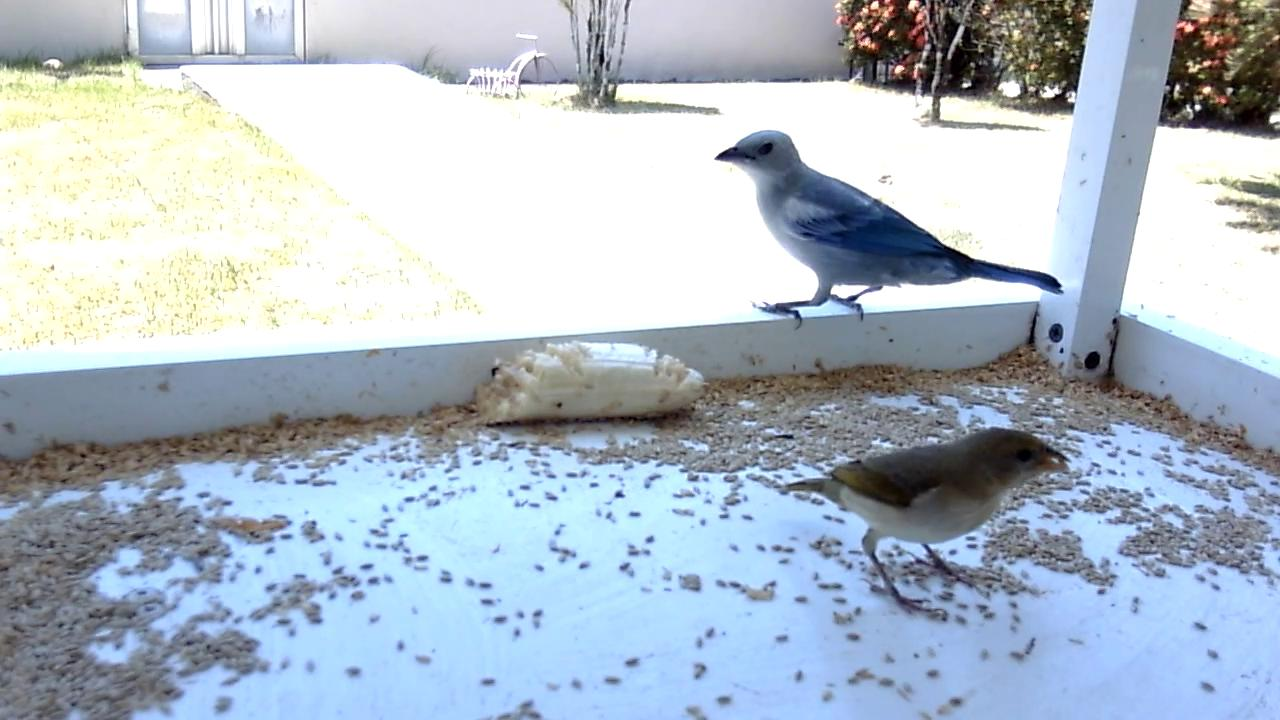canario_do_amazonas: (786, 427, 1073, 620)
sanhaco_da_amazonia: (716, 128, 1064, 330)
